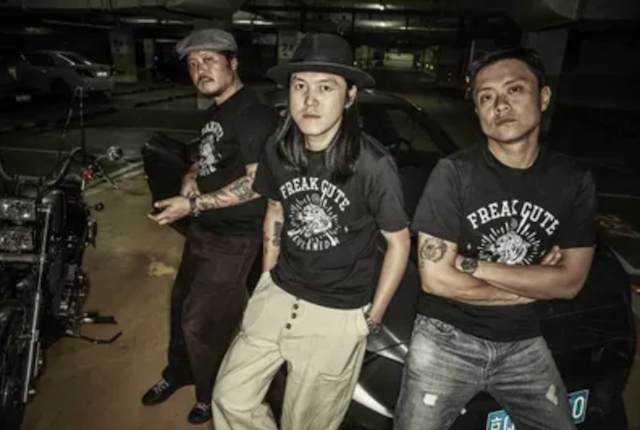clothes: (419, 140, 597, 337), (266, 126, 403, 301), (183, 92, 261, 234)
